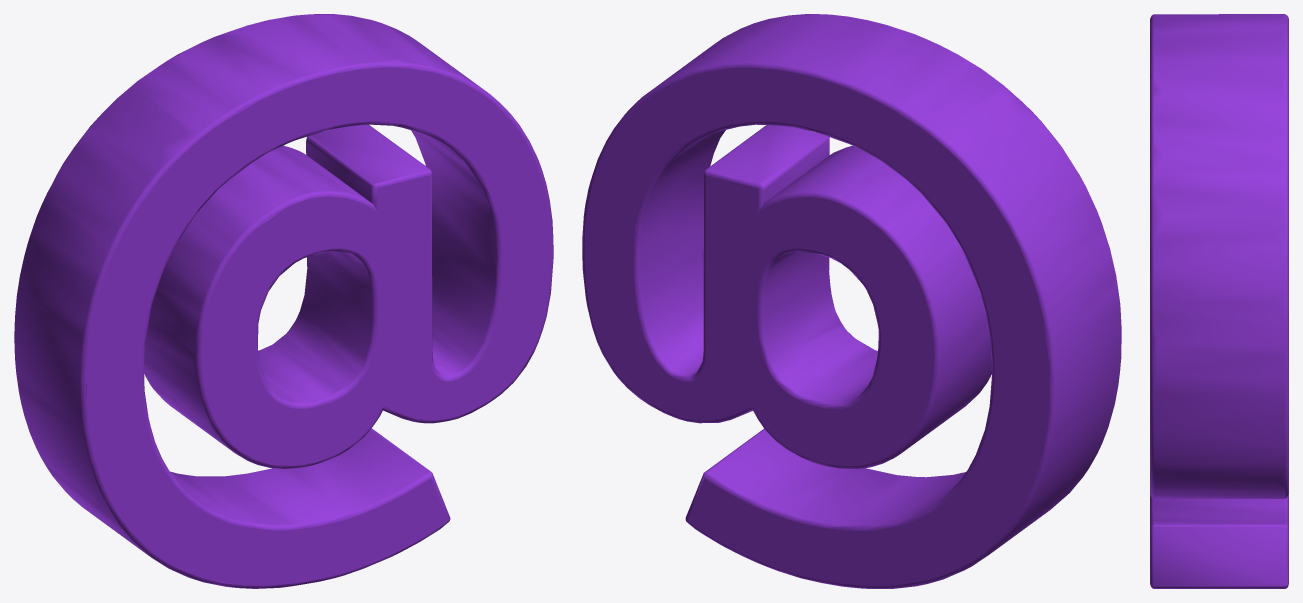
3 views of the same model, side by side, from view 1: azimuth 30°, elevation 25°; view 2: azimuth 150°, elevation 25°; view 3: azimuth 270°, elevation 25° (orthographic).
Parts seen in each view (by area): view 1: Curve; view 2: Curve; view 3: Curve.
Boxes of the visible parts, x1=… form: Curve: x1=14, y1=14, x2=553, y2=588; Curve: x1=582, y1=14, x2=1121, y2=588; Curve: x1=1150, y1=14, x2=1288, y2=588.
Bounding box in the file's own units: 1.77 × 1.82 × 0.4474.
